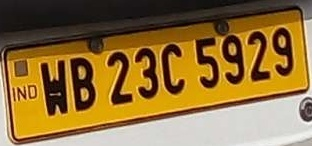character: (38, 58, 70, 116), (105, 50, 133, 105), (69, 56, 95, 112), (193, 36, 219, 88), (246, 30, 271, 82), (134, 47, 159, 98), (220, 33, 245, 84), (160, 43, 184, 94), (271, 27, 293, 77)
